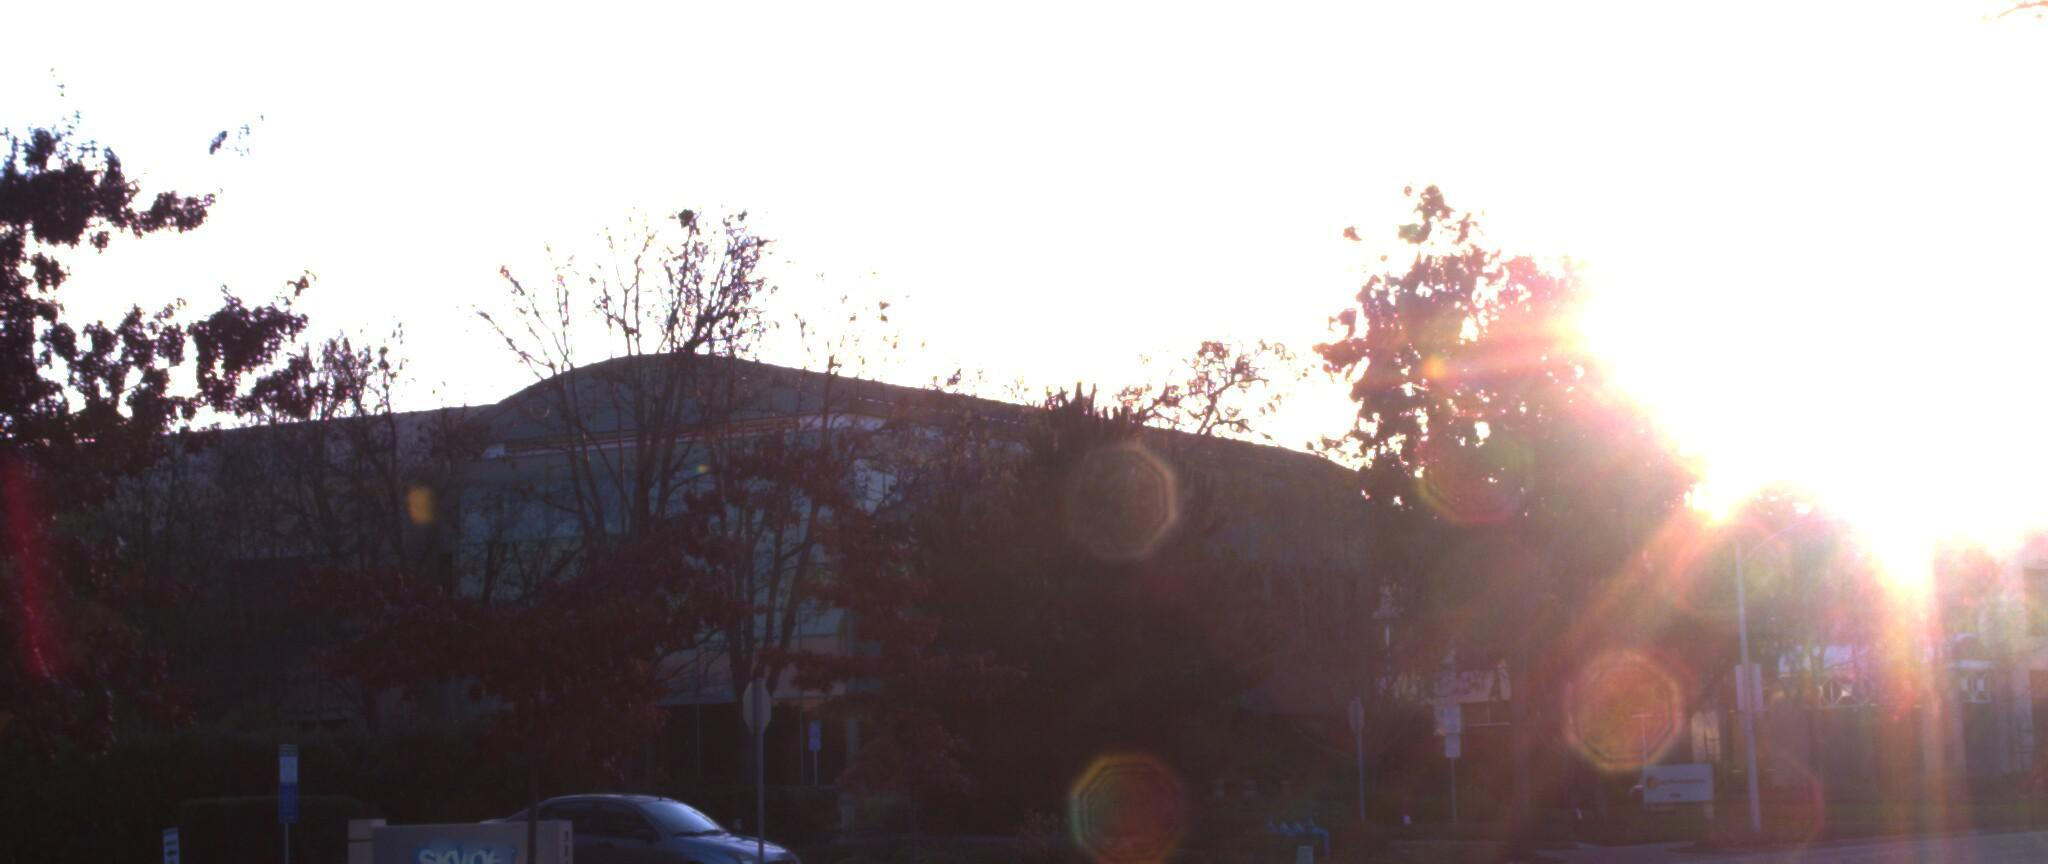car: (460, 762, 827, 864)
